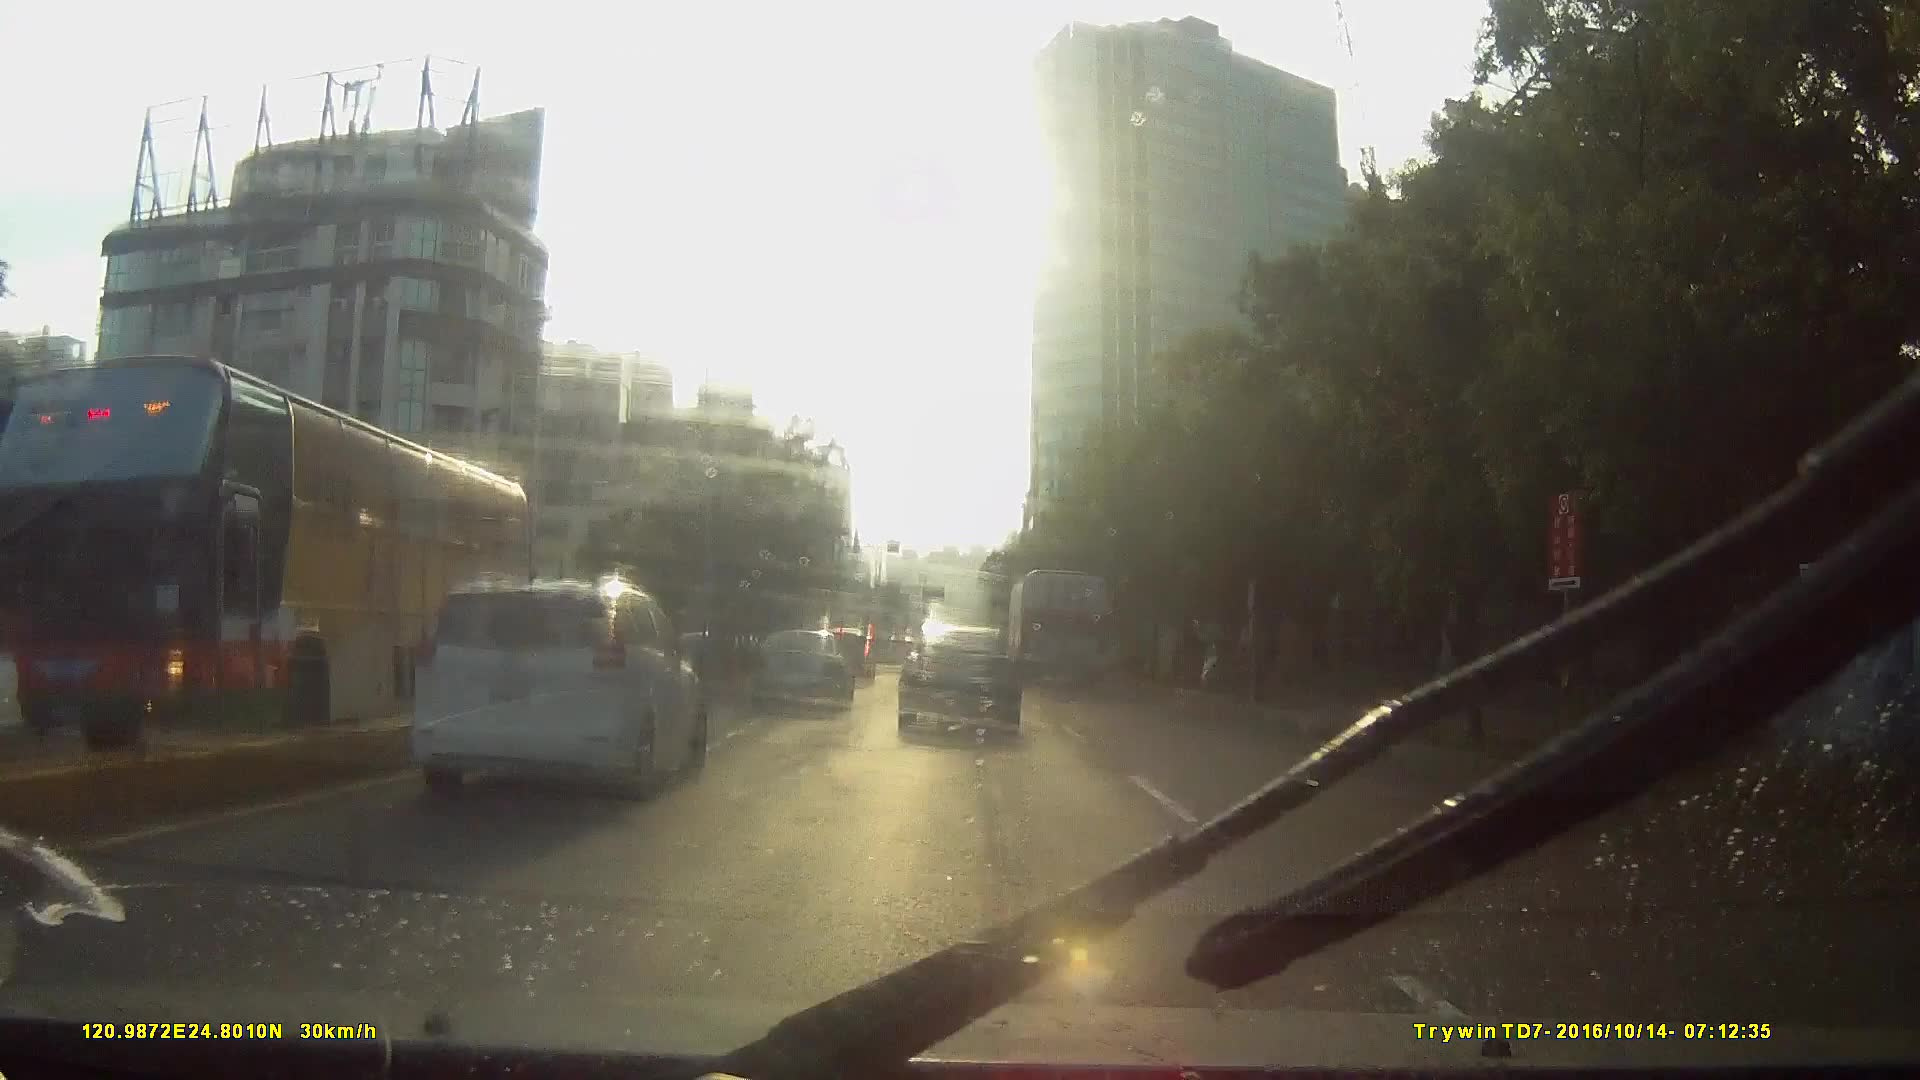vehicle: (1, 349, 541, 769), (251, 556, 684, 868), (407, 568, 705, 800), (894, 620, 1021, 733), (1007, 566, 1112, 692), (746, 626, 853, 712), (866, 638, 915, 687)
